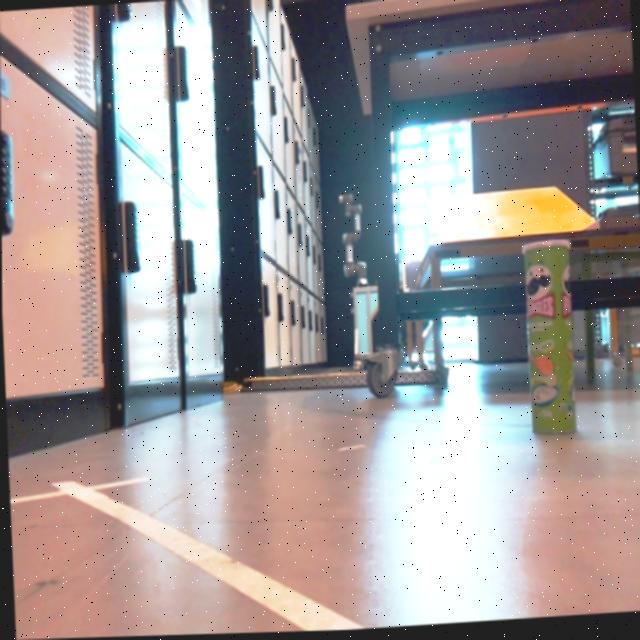greenpringles: (508, 226, 598, 455)
